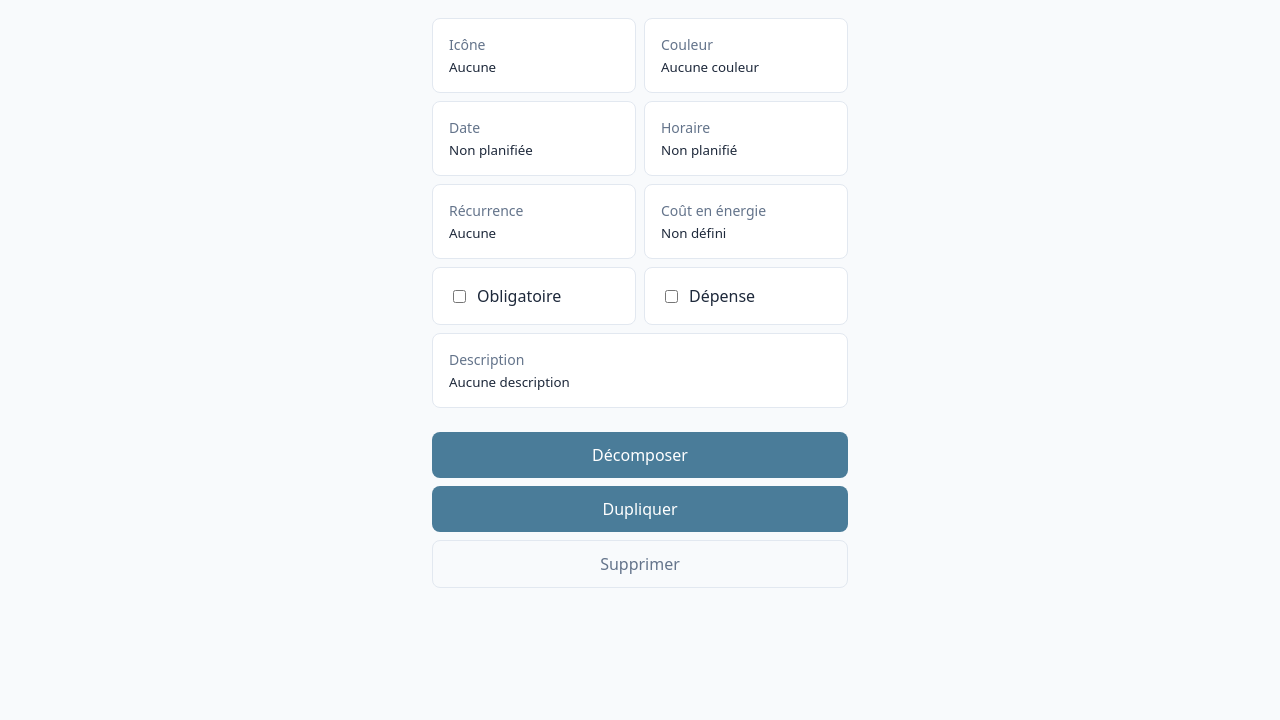
Scenario: E22TaskDetail › modale M01 (suppression) › Supprimer affiche la modale de confirmation
(page scrolled)
Click the button "Supprimer" at [640, 564], box x1=432 y1=540 x2=848 y2=588
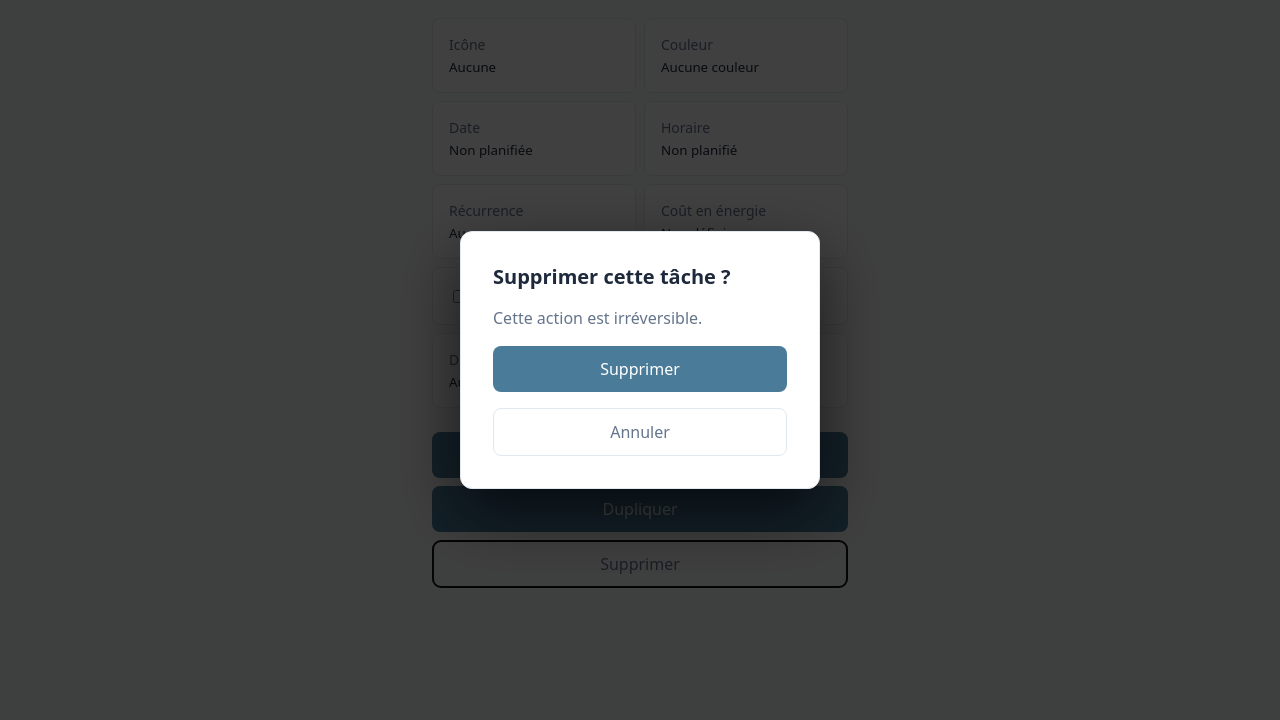
Now the dialog named "Supprimer la tâche" is shown
